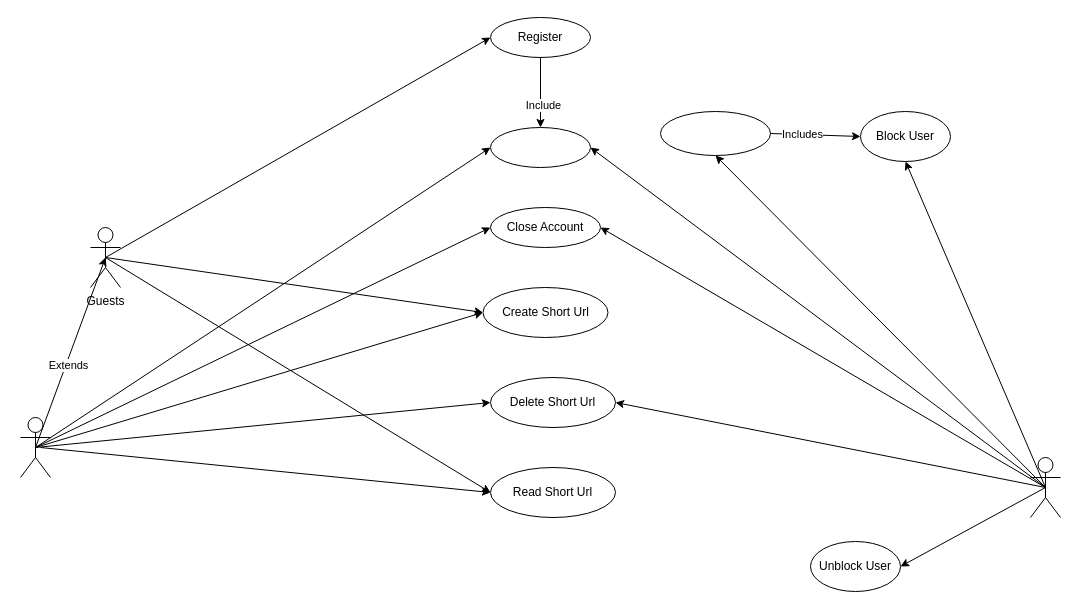
The diagram is 1080 pixels wide and 609 high, and some of its shapes have lost their labels. The box of each missing label's shape, as (x1, y1, x2, y2) in pixels:
Admin: (1030, 456, 1060, 518)
Clients: (20, 416, 50, 478)
Login/Logout: (490, 126, 590, 168)
Suspend Account: (660, 110, 770, 156)
